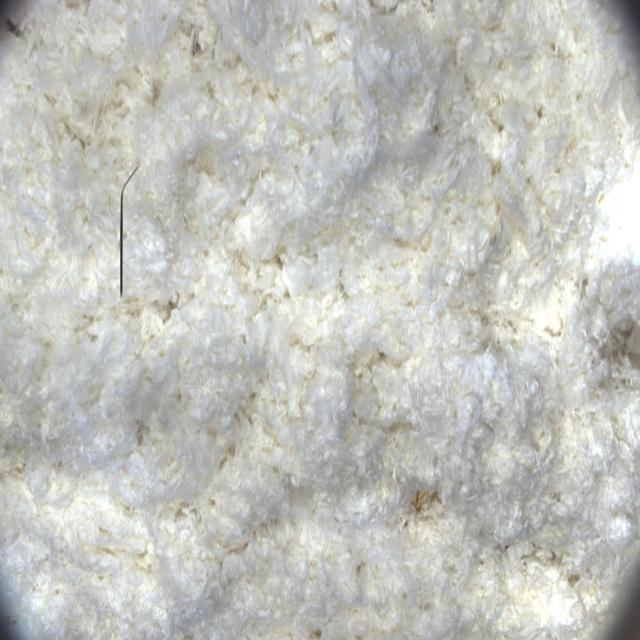dust: (98, 148, 150, 316)
